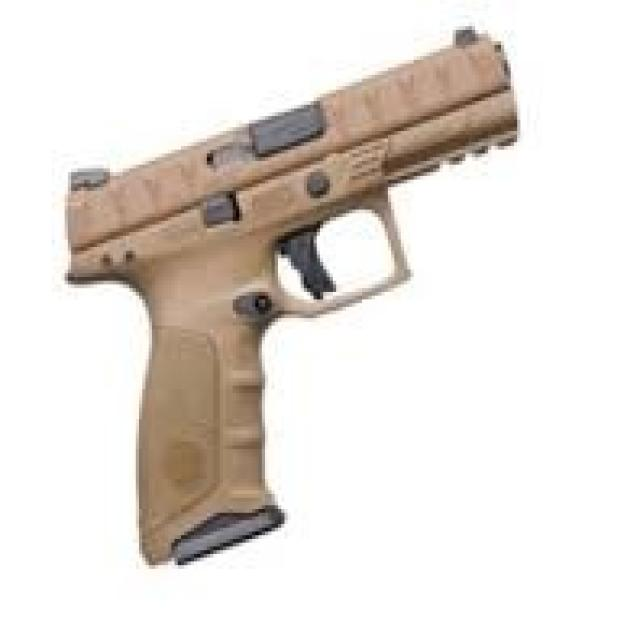pistol: (55, 14, 522, 576)
